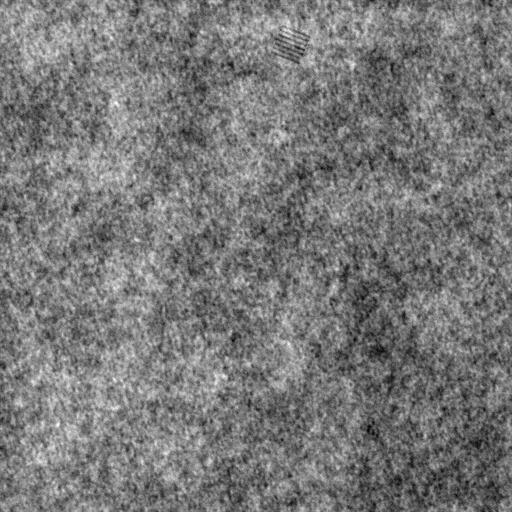impact: (267, 24, 312, 67)
